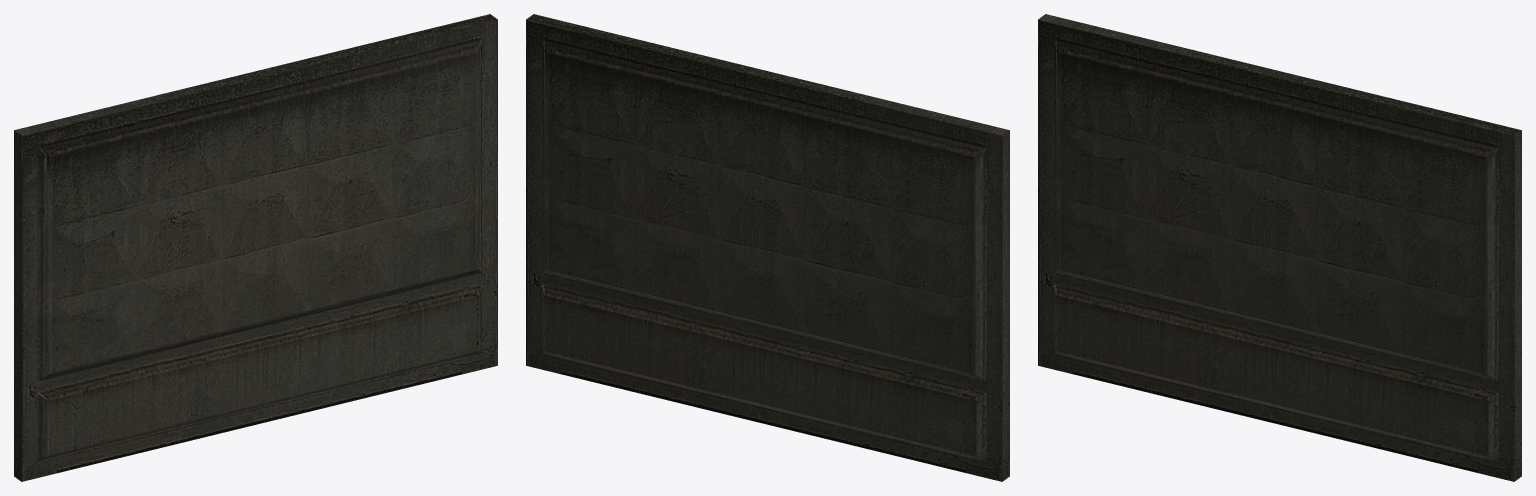
File: concrete_fence_hr_1.dae
The picture shows the model from 3 angles, left to right: view 1: azimuth 30°, elevation 25°; view 2: azimuth 150°, elevation 25°; view 3: azimuth 330°, elevation 25°; orthographic projection.
Visible parts, largest first — view 1: concrete_fence_hr_1; view 2: concrete_fence_hr_1; view 3: concrete_fence_hr_1.
Part boxes in pixels (x1=…): concrete_fence_hr_1: x1=14, y1=14, x2=497, y2=481; concrete_fence_hr_1: x1=526, y1=14, x2=1009, y2=481; concrete_fence_hr_1: x1=1038, y1=14, x2=1521, y2=481.
Bounding box in the file's own units: 3.6 × 0.2 × 2.5.
1 material, 1 textured.
